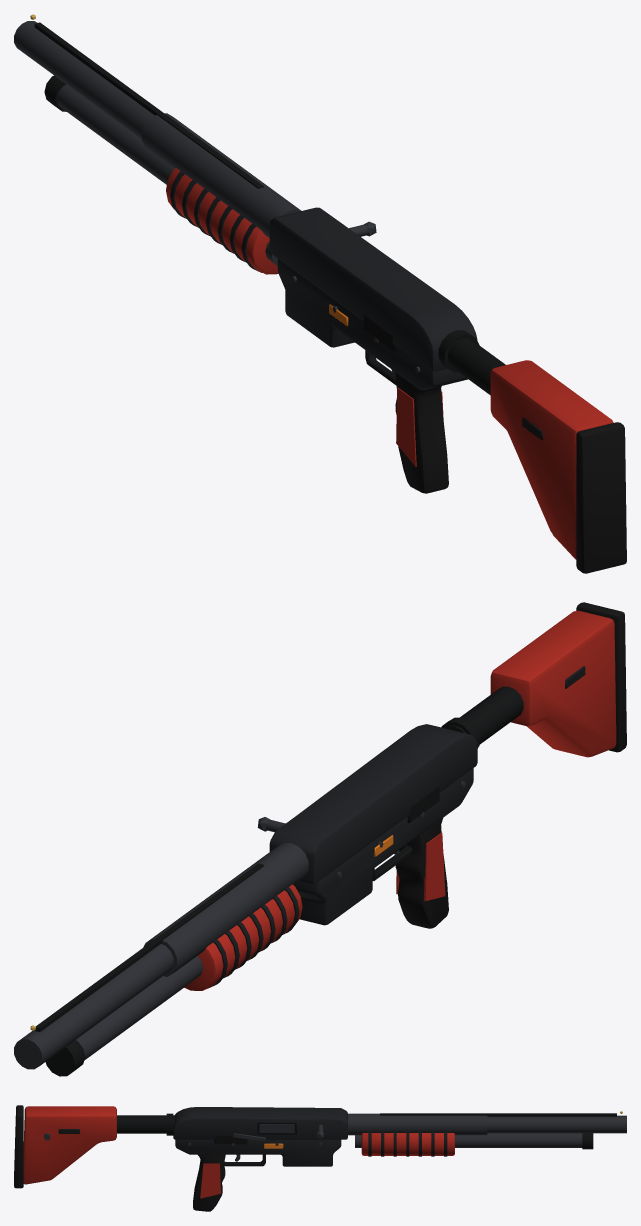
File: gun_37.glb
3 renders of one model, top to bottom at view 1: azimuth 30°, elevation 25°; view 2: azimuth 150°, elevation 25°; view 3: azimuth 270°, elevation 25°, orthographic. The views are drawn at different scales.
Visible parts, largest first — view 1: gun_37; view 2: gun_37; view 3: gun_37.
Part boxes in pixels (x1=…): gun_37: x1=14, y1=14, x2=626, y2=573; gun_37: x1=14, y1=602, x2=626, y2=1076; gun_37: x1=14, y1=1105, x2=626, y2=1211.
Size of the model in its own units: 0.0956 by 0.1996 by 1.12.
